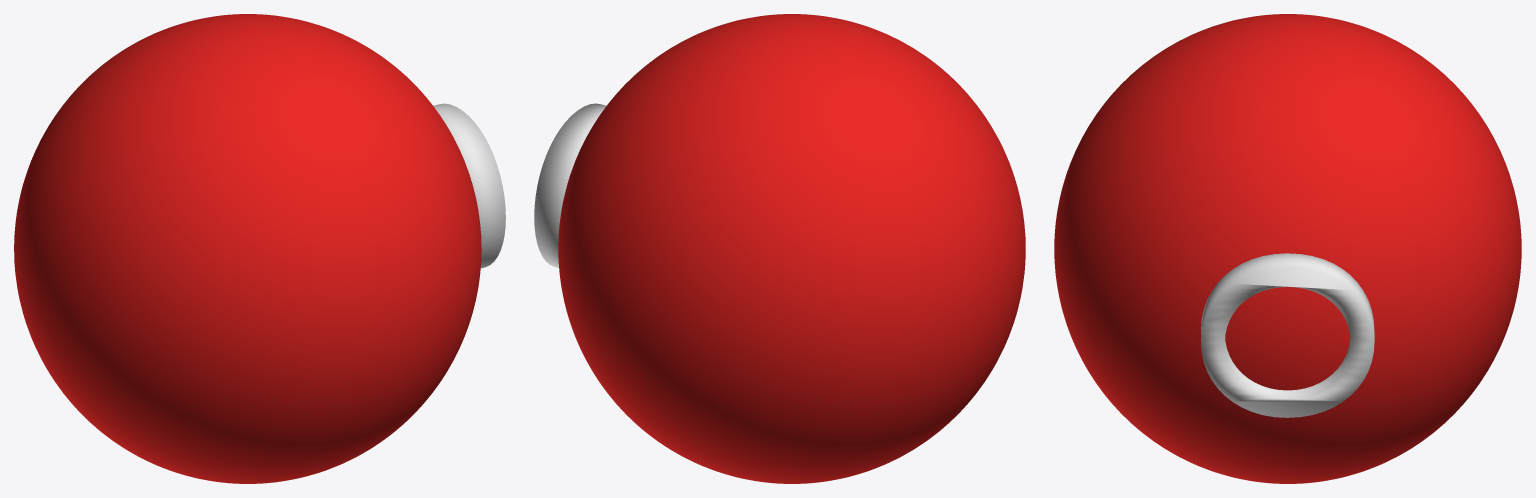
File: Oxygen.fbx
3 views of the same model, side by side, from view 1: azimuth 30°, elevation 25°; view 2: azimuth 150°, elevation 25°; view 3: azimuth 270°, elevation 25° (orthographic).
Parts seen in each view (by area): view 1: Sphere, Text; view 2: Sphere, Text; view 3: Sphere, Text.
Part boxes in pixels (<box>): Sphere: <box>14,14,481,483</box>; Text: <box>433,103,505,268</box>; Sphere: <box>558,14,1025,483</box>; Text: <box>534,103,606,267</box>; Sphere: <box>1054,14,1521,483</box>; Text: <box>1201,253,1374,417</box>.
Bounding box in the file's own units: 203 × 200 × 197.
